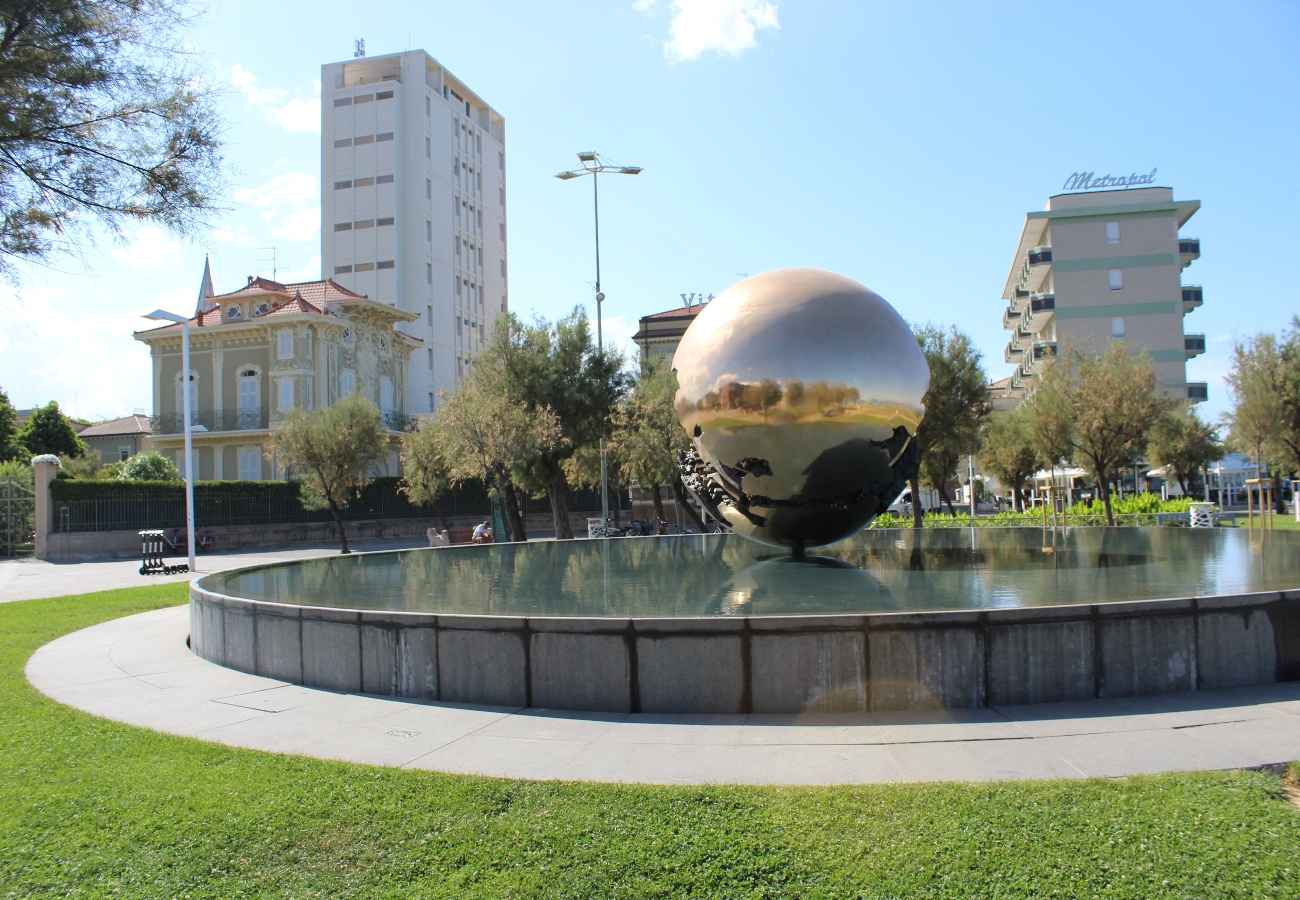Palla di Pomodoro: (667, 266, 932, 548)
Villino Ruggeri: (133, 258, 424, 511)
